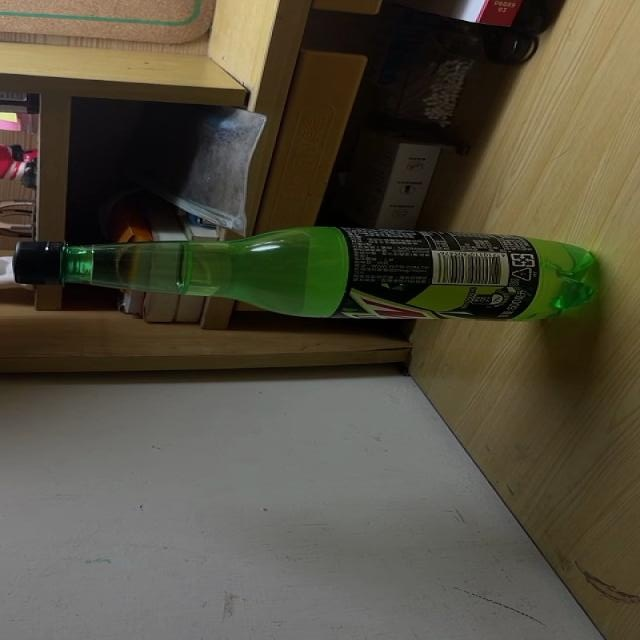Mountain-Dew: (14, 225, 605, 322)
